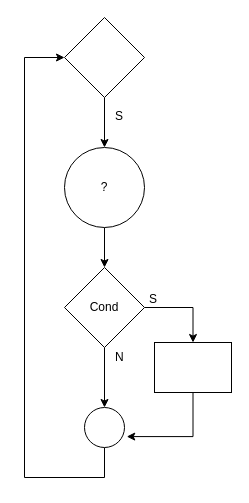
Some shapes in this 249 by 503 pixel diagram are drawn without their labels. The shapes that lost their labels are listed below. From the top down, each one's centre as x and y in pixels, then its label:
(x=104, y=57): Condição
(x=193, y=367): Pare
